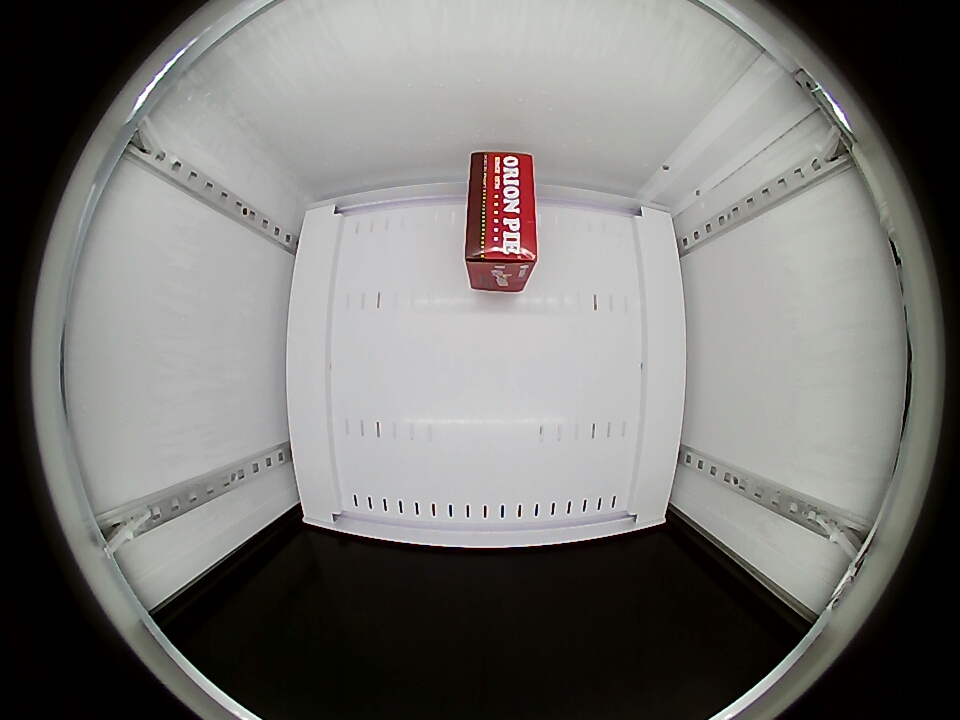haoliyou: (466, 150, 537, 288)
